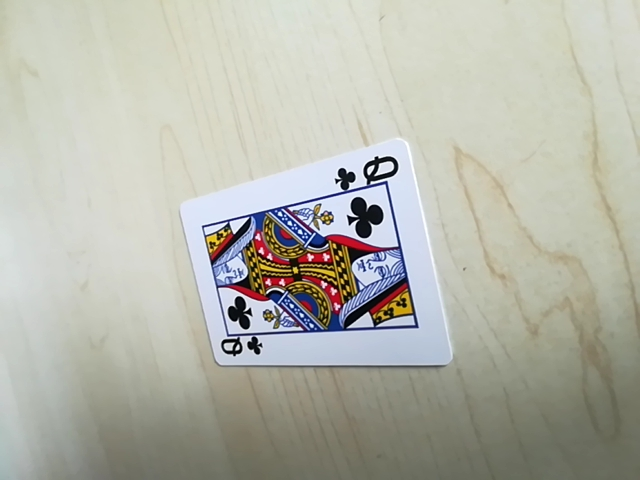mh q: (333, 153, 404, 190), (210, 330, 262, 363)
